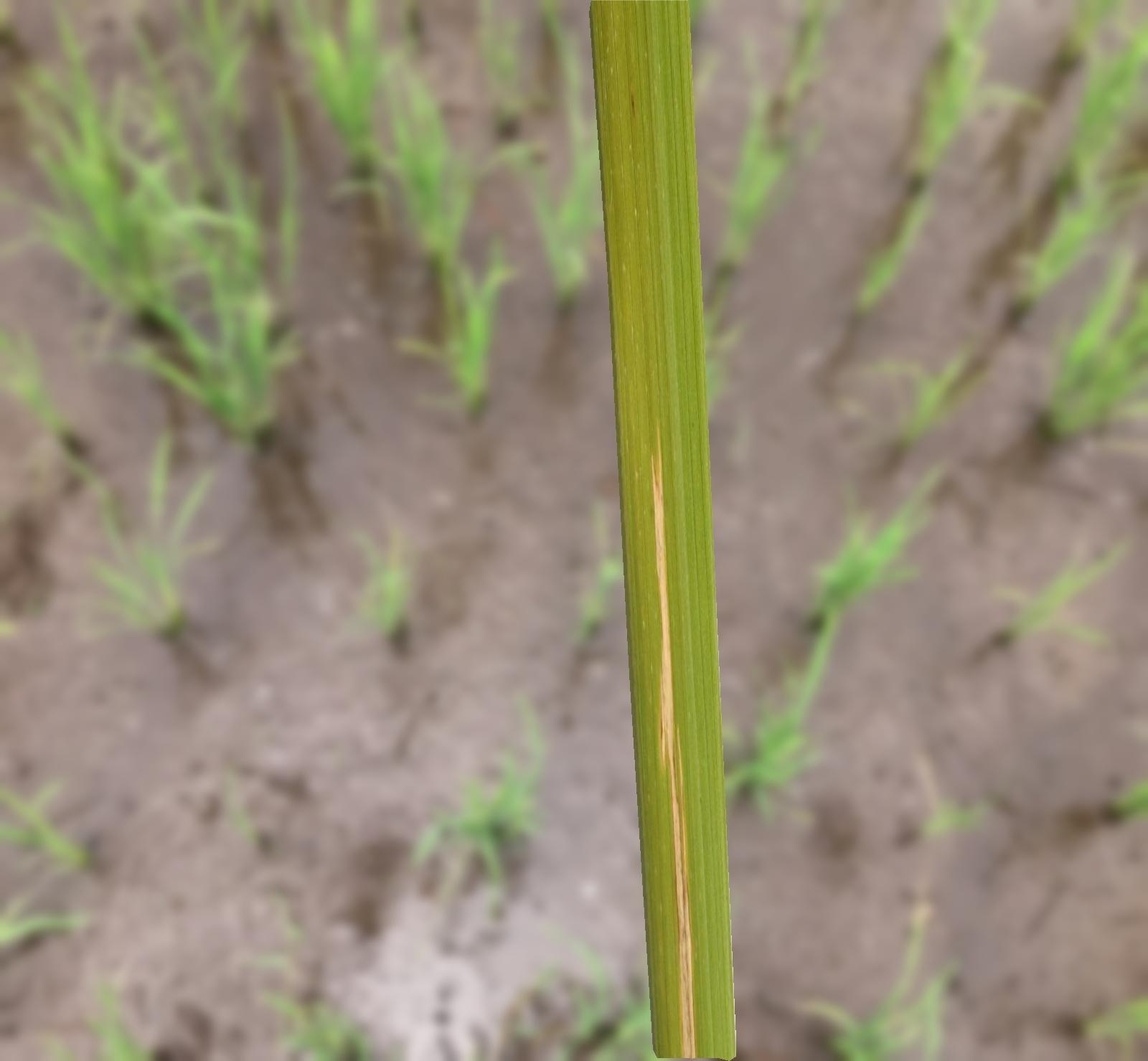BLS: (651, 434, 696, 1058)
LEAF: (589, 0, 735, 1060)
